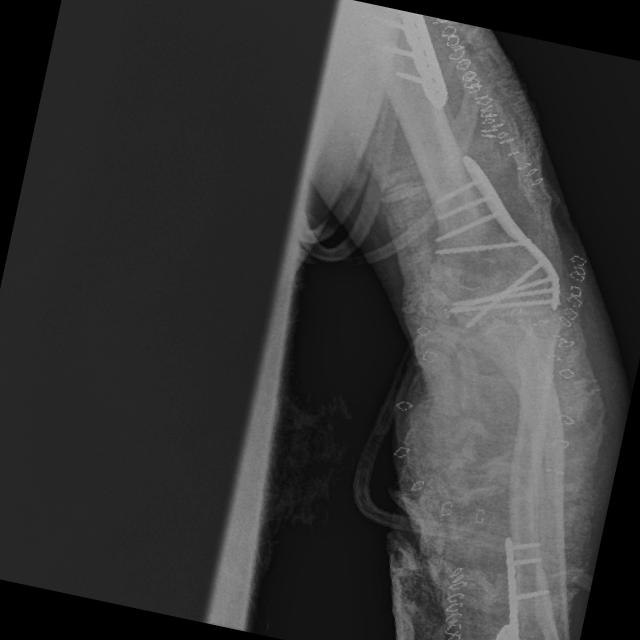elbow positive: (414, 246, 526, 327)
